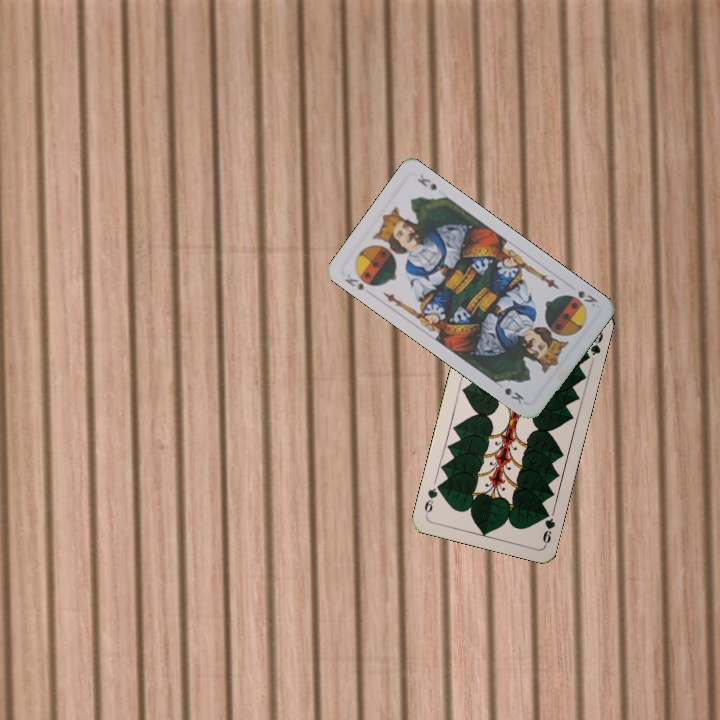G9: (539, 506, 558, 548)
SK: (340, 268, 377, 293), (563, 286, 600, 310)
